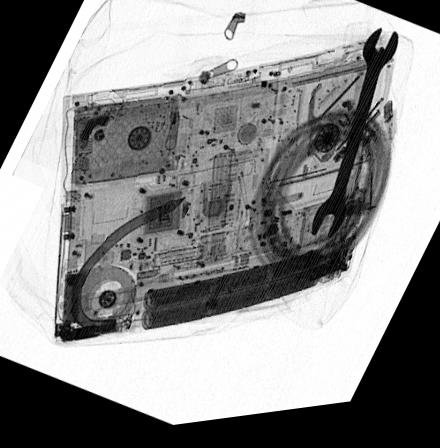Wrench: (308, 36, 399, 249)
